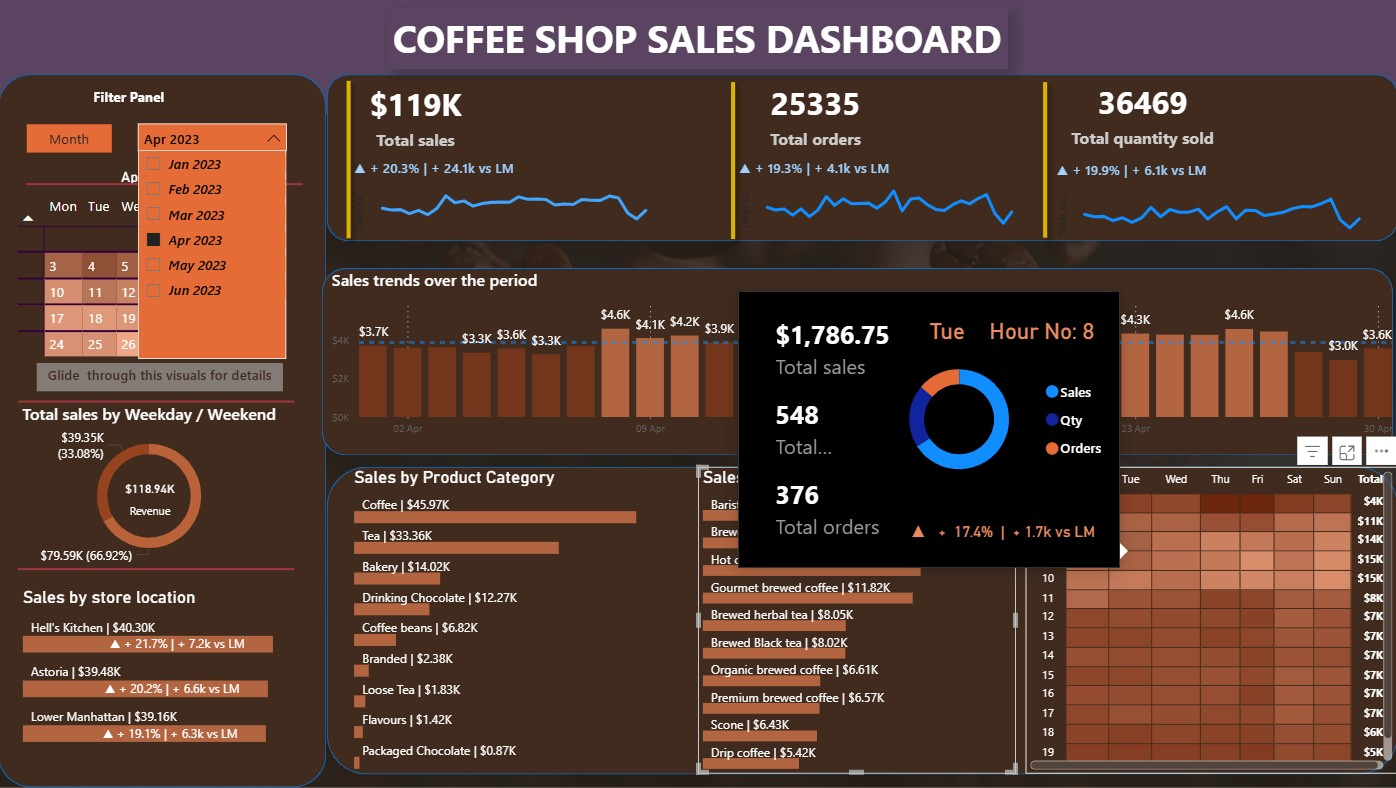

This screenshot's page, from the dashboard's own definition file:
{"tool":"powerbi","page":{"name":"Page 1","canvas":[1383,858],"ordinal":0},"visuals":[{"type":"shape","box":[0,35.6,1383.3,114.2],"z":0},{"type":"shape","box":[231.1,107.9,230.9,173.5],"z":0,"group":"g4"},{"type":"shape","box":[604,108.9,244.6,173],"z":0,"group":"g5"},{"type":"shape","box":[882.2,109.4,305.5,171.7],"z":0,"group":"g6"},{"type":"shape","box":[0,105.4,324.4,709.6],"z":1000},{"type":"lineChart","fields":{"Category":["Date table.Date.Variation.Date Hierarchy.Year","Date table.Date.Variation.Date Hierarchy.Quarter","Date table.Date.Variation.Date Hierarchy.Month","Date table.Date.Variation.Date Hierarchy.Day"],"Y":["Transactions.Total orders"]},"box":[727,192.6,289.4,78.2],"z":1000,"group":"g5"},{"type":"lineChart","fields":{"Category":["Date table.Date.Variation.Date Hierarchy.Year","Date table.Date.Variation.Date Hierarchy.Quarter","Date table.Date.Variation.Date Hierarchy.Month","Date table.Date.Variation.Date Hierarchy.Day"],"Y":["Transactions.Total sales"]},"box":[347.3,193.2,308.2,79.7],"z":1000,"group":"g4"},{"type":"lineChart","fields":{"Category":["Date table.Date.Variation.Date Hierarchy.Year","Date table.Date.Variation.Date Hierarchy.Quarter","Date table.Date.Variation.Date Hierarchy.Month","Date table.Date.Variation.Date Hierarchy.Day"],"Y":["Transactions.Total QUANTITY SOLD"]},"box":[1041.4,195.3,319,81.1],"z":1000,"group":"g6"},{"type":"shape","box":[324.4,109.5,1058.3,164.9],"z":2000},{"type":"textbox","box":[526.6,36,442.6,60],"z":3000},{"type":"card","fields":{"Values":["Transactions.Total QUANTITY SOLD"]},"box":[1048.6,105.4,180.2,102.3],"z":4000,"group":"g3"},{"type":"card","fields":{"Values":["Transactions.Total orders"]},"box":[736.7,106.8,158.6,102.3],"z":4000,"group":"g2"},{"type":"card","fields":{"Values":["Transactions.Total sales"]},"box":[341,108.2,158.6,102.3],"z":4000,"group":"g1"},{"type":"slicer","fields":{"Values":["Date table.Month Year"]},"box":[133.8,148.7,156.8,62.2],"z":4000},{"type":"group","id":"g1","title":"Group 2","box":[231.1,107.9,424.3,173.5],"z":5000},{"type":"group","id":"g2","title":"Group 2","box":[604,106.8,412.4,175.1],"z":6000},{"type":"group","id":"g3","title":"Group 2","box":[882.2,105.4,478.2,175.7],"z":7000},{"type":"pivotTable","fields":{"Rows":["Date table.Week Number"],"Columns":["Date table.Day name"],"Values":["Min(Date table.Day Number)"]},"box":[14.9,221.7,282.5,201.4],"z":8000},{"type":"group","id":"g4","title":"Group 1","box":[231.1,107.9,424.3,173.5],"z":9000,"group":"g1"},{"type":"group","id":"g5","title":"Group 1","box":[604,108.9,412.4,173],"z":9000,"group":"g2"},{"type":"group","id":"g6","title":"Group 1","box":[882.2,109.4,478.2,171.7],"z":9000,"group":"g3"},{"type":"card","fields":{"Values":["Transactions.Foot Note"]},"box":[37.8,394.7,243.3,28.4],"z":9000},{"type":"card","fields":{"Values":["Min(Date table.Month Year)"]},"box":[106.8,197.3,85.2,24.3],"z":10000},{"type":"shape","box":[20.3,406.8,273,54.1],"z":11000},{"type":"shape","box":[28.4,191.9,273,54.1],"z":12000},{"type":"donutChart","fields":{"Category":["Date table.Weekday / Weekend"],"Y":["Transactions.Total sales"]},"box":[6.8,433.9,286.5,164.9],"z":13000},{"type":"card","fields":{"Values":["Transactions.Total sales"]},"box":[89.2,486.6,123,82.4],"z":14000},{"type":"shape","box":[20.3,571.7,273,54.1],"z":15000},{"type":"clusteredBarChart","title":"Sales by store location ","fields":{"Category":["Transactions.store_location"],"Y":["Transactions.placeholder","Transactions.Total sales"]},"box":[20.3,616.3,293.3,160.8],"z":16000},{"type":"shape","box":[320.3,301.4,1058.3,185.2],"z":17000},{"type":"clusteredColumnChart","title":"Sales trends over the period  ","fields":{"Category":["Transactions.transaction_date"],"Y":["Transactions.Total sales"]},"box":[324.4,301.4,1058.3,185.2],"z":18000},{"type":"shape","box":[324.4,497.4,1058.3,304.1],"z":19000},{"type":"clusteredBarChart","title":"Sales by store location ","fields":{"Y":["Transactions.placeholder","Transactions.Total sales"],"Category":["Transactions.product_category"]},"box":[347.4,497.4,316.3,304.1],"z":21000},{"type":"clusteredBarChart","title":"Sales by store location ","fields":{"Y":["Transactions.placeholder","Transactions.Total sales"],"Category":["Transactions.product_type"]},"box":[692,497.4,314.9,304.1],"z":22000},{"type":"pivotTable","fields":{"Rows":["Transactions.Hour"],"Columns":["Date table.Day name"],"Values":["Transactions.Total sales"]},"box":[1015.1,497.4,367.6,304.1],"z":23000},{"type":"textbox","box":[28.4,159.5,83.8,28.4],"z":24000},{"type":"textbox","box":[70.3,118.9,121.6,29.7],"z":25000}]}

Visuals, with their boxes on the page's 1383x858 design canvas (x1, y1, x2, y2). These are canvas units, not pixel positions in the 1396x788 screenshot, which may show the page scaled, cropped or inside an application window:
shape: (0, 36, 1383, 150)
shape: (231, 108, 462, 281)
shape: (604, 109, 849, 282)
shape: (882, 109, 1188, 281)
shape: (0, 105, 324, 815)
lineChart - Date table.Date.Variation.Date Hierarchy.Year x Date table.Date.Variation.Date Hierarchy.Quarter: (727, 193, 1016, 271)
lineChart - Date table.Date.Variation.Date Hierarchy.Year x Date table.Date.Variation.Date Hierarchy.Quarter: (347, 193, 656, 273)
lineChart - Date table.Date.Variation.Date Hierarchy.Year x Date table.Date.Variation.Date Hierarchy.Quarter: (1041, 195, 1360, 276)
shape: (324, 110, 1383, 274)
textbox: (527, 36, 969, 96)
card - Transactions.Total QUANTITY SOLD: (1049, 105, 1229, 208)
card - Transactions.Total orders: (737, 107, 895, 209)
card - Transactions.Total sales: (341, 108, 500, 210)
slicer - Date table.Month Year: (134, 149, 291, 211)
"Group 2" group: (231, 108, 655, 281)
"Group 2" group: (604, 107, 1016, 282)
"Group 2" group: (882, 105, 1360, 281)
pivotTable - Date table.Week Number x Date table.Day name: (15, 222, 297, 423)
"Group 1" group: (231, 108, 655, 281)
"Group 1" group: (604, 109, 1016, 282)
"Group 1" group: (882, 109, 1360, 281)
card - Transactions.Foot Note: (38, 395, 281, 423)
card - Min(Date table.Month Year): (107, 197, 192, 222)
shape: (20, 407, 293, 461)
shape: (28, 192, 301, 246)
donutChart - Date table.Weekday / Weekend x Transactions.Total sales: (7, 434, 293, 599)
card - Transactions.Total sales: (89, 487, 212, 569)
shape: (20, 572, 293, 626)
"Sales by store location " clusteredBarChart: (20, 616, 314, 777)
shape: (320, 301, 1379, 487)
"Sales trends over the period  " clusteredColumnChart: (324, 301, 1383, 487)
shape: (324, 497, 1383, 802)
"Sales by store location " clusteredBarChart: (347, 497, 664, 802)
"Sales by store location " clusteredBarChart: (692, 497, 1007, 802)
pivotTable - Transactions.Hour x Date table.Day name: (1015, 497, 1383, 802)
textbox: (28, 160, 112, 188)
textbox: (70, 119, 192, 149)
